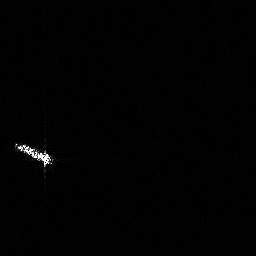ship: (11, 138, 56, 170)
